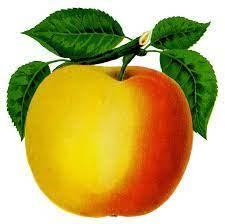Apple: (26, 63, 194, 217)
